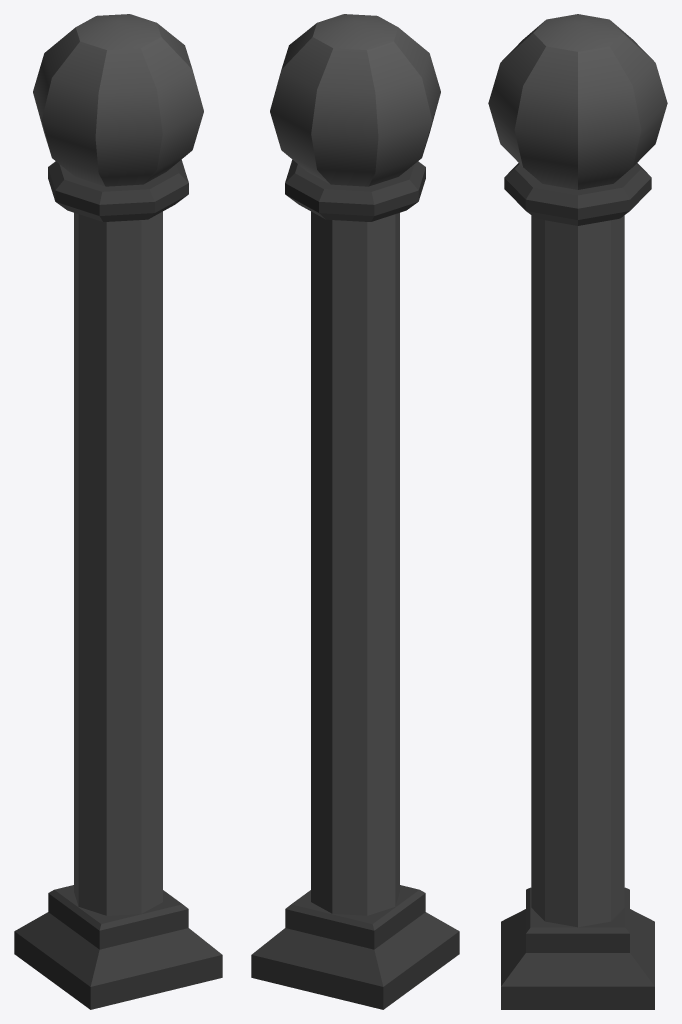
Rendered from mdl_poland_pole.gltf.
The picture shows the model from 3 angles, left to right: view 1: azimuth 30°, elevation 25°; view 2: azimuth 150°, elevation 25°; view 3: azimuth 270°, elevation 25°; orthographic projection.
Visible parts, largest first — view 1: Cylinder.003, Sphere, Cube.058; view 2: Cylinder.003, Sphere, Cube.058; view 3: Cylinder.003, Sphere, Cube.058.
Part boxes in pixels (x1,y1,x2,y2): Cylinder.003: (48,159,188,915); Sphere: (33,14,203,186); Cube.058: (14,885,222,1009); Cylinder.003: (285,159,425,915); Sphere: (270,14,440,186); Cube.058: (251,885,459,1009); Cylinder.003: (504,163,651,927); Sphere: (488,14,667,189); Cube.058: (501,887,654,1009).
Size of the model in its own units: 0.2329 by 1.37 by 0.2329.
Materials: 1 (1 with a texture image).
